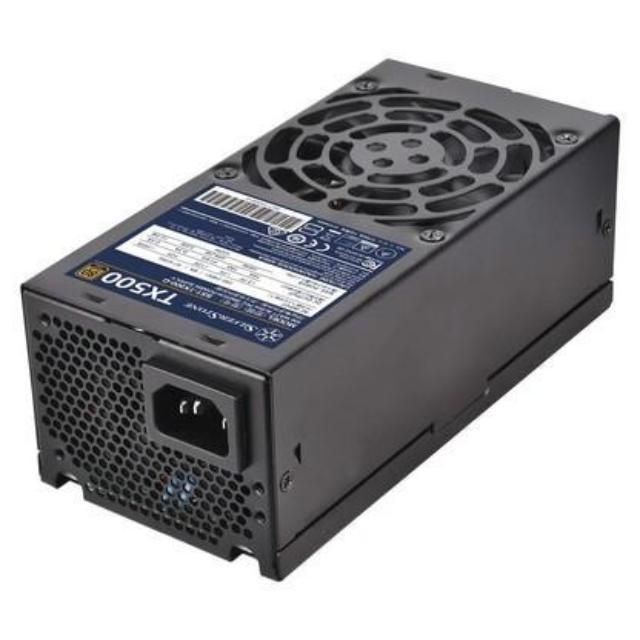PSU: (17, 59, 626, 572)
